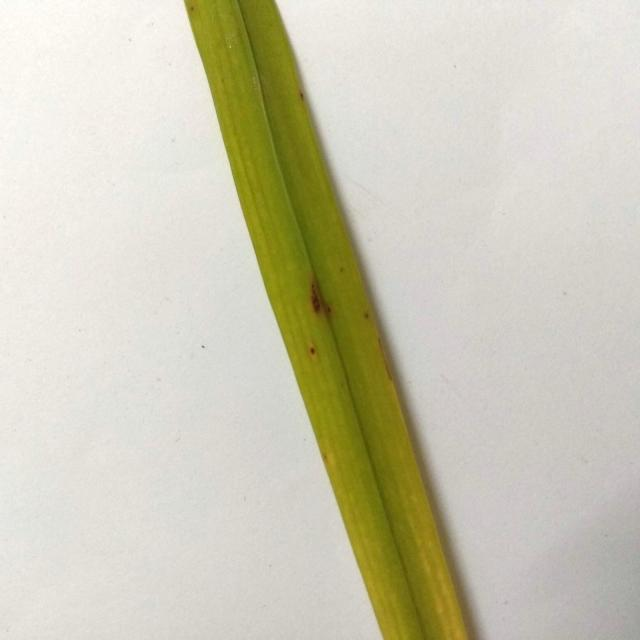Brown spot: (175, 0, 472, 640)
